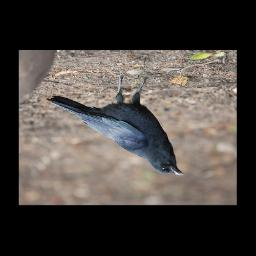Crow: (47, 71, 186, 176)
